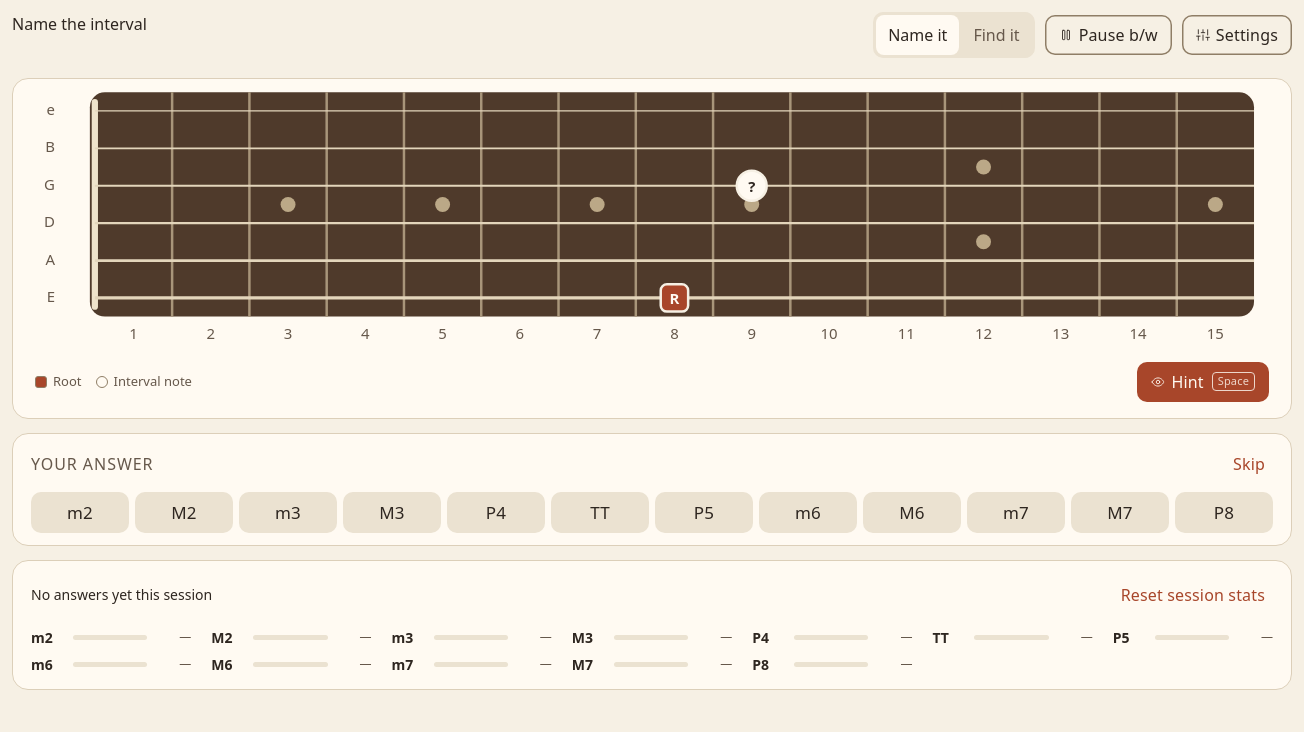
Test: IntervalTrainer › with Pause b/w, waits for any key
The width and height of the screenshot is (1304, 732).
Click the button "Pause b/w" at (1108, 35), box [1045,15,1172,55]
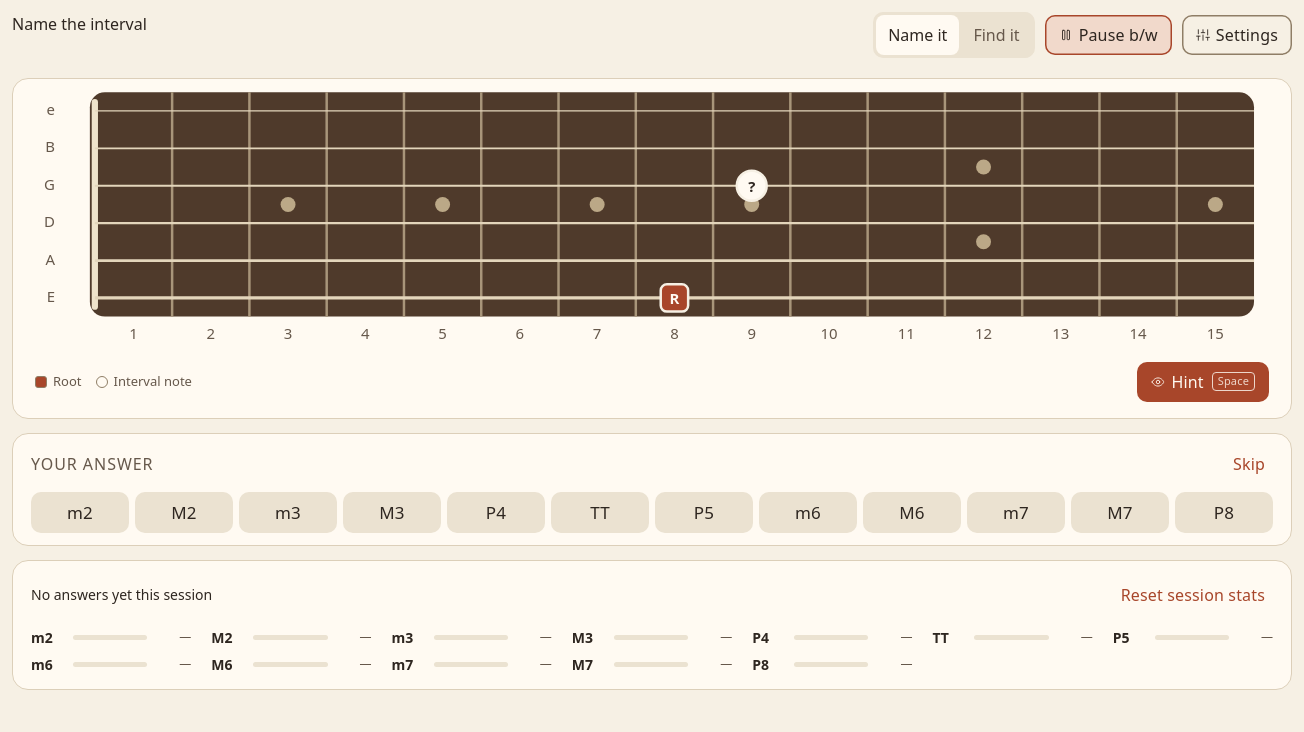
Press 4
Wait 5000 ms
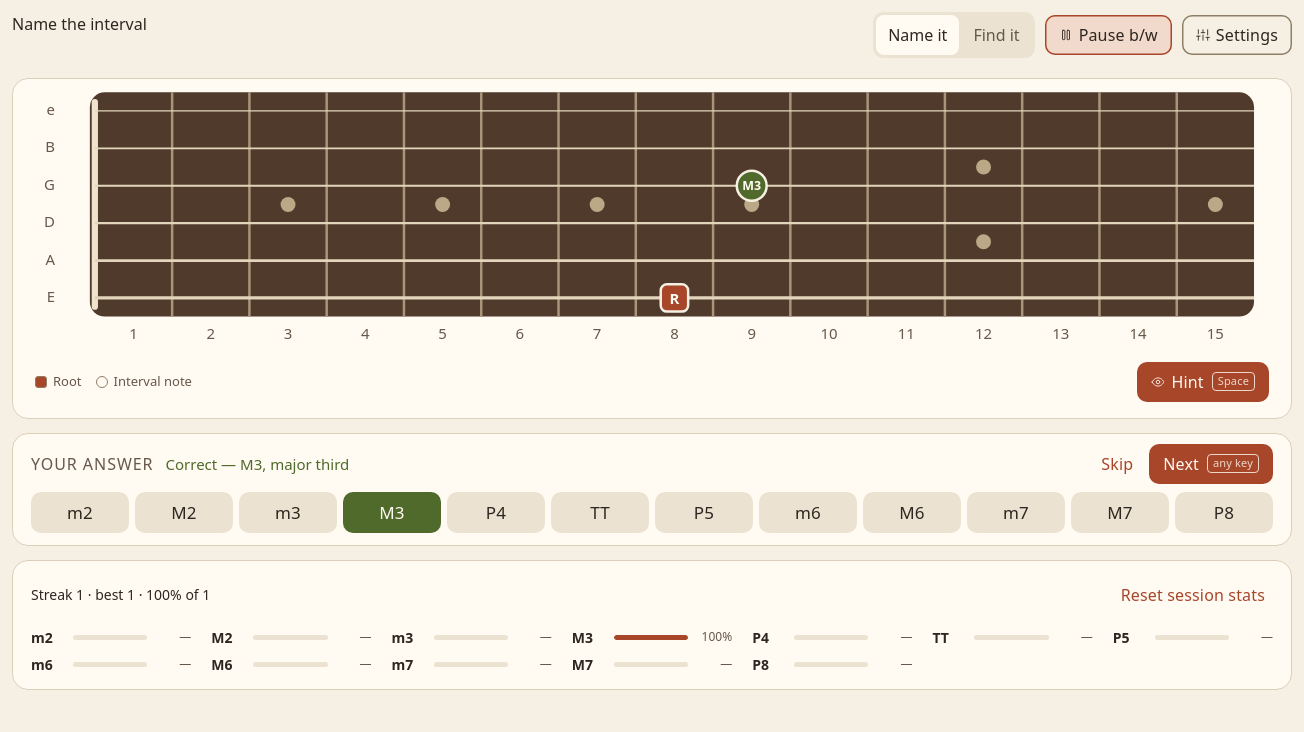
Check: the button "Next any key" is shown, box [1149,444,1273,484]
Press x
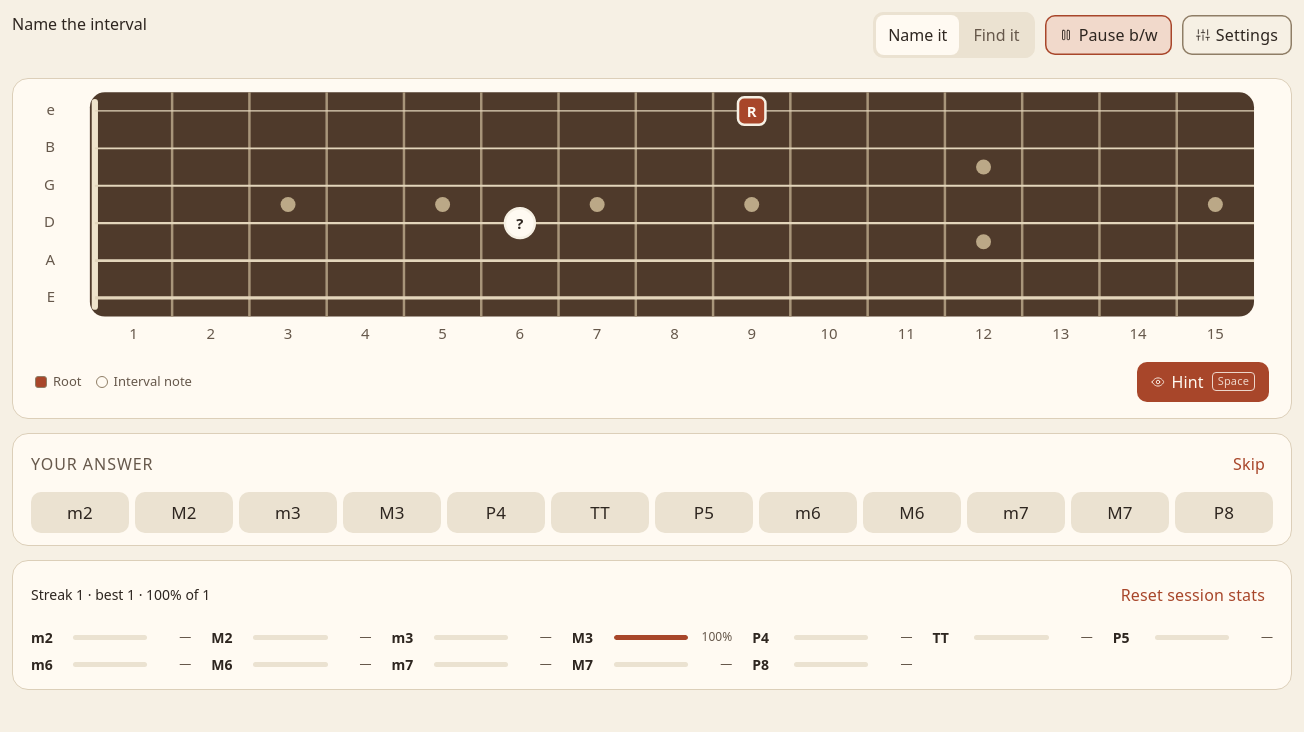
Check: the button "Next" is gone
